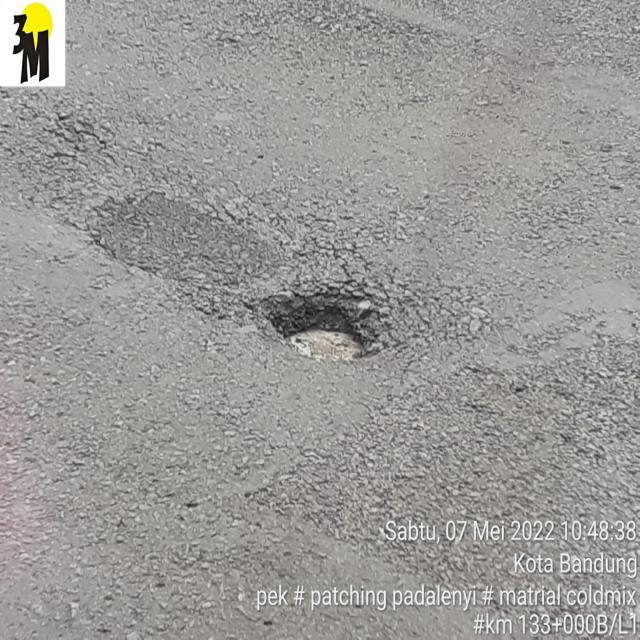Buraco: (246, 284, 397, 368)
